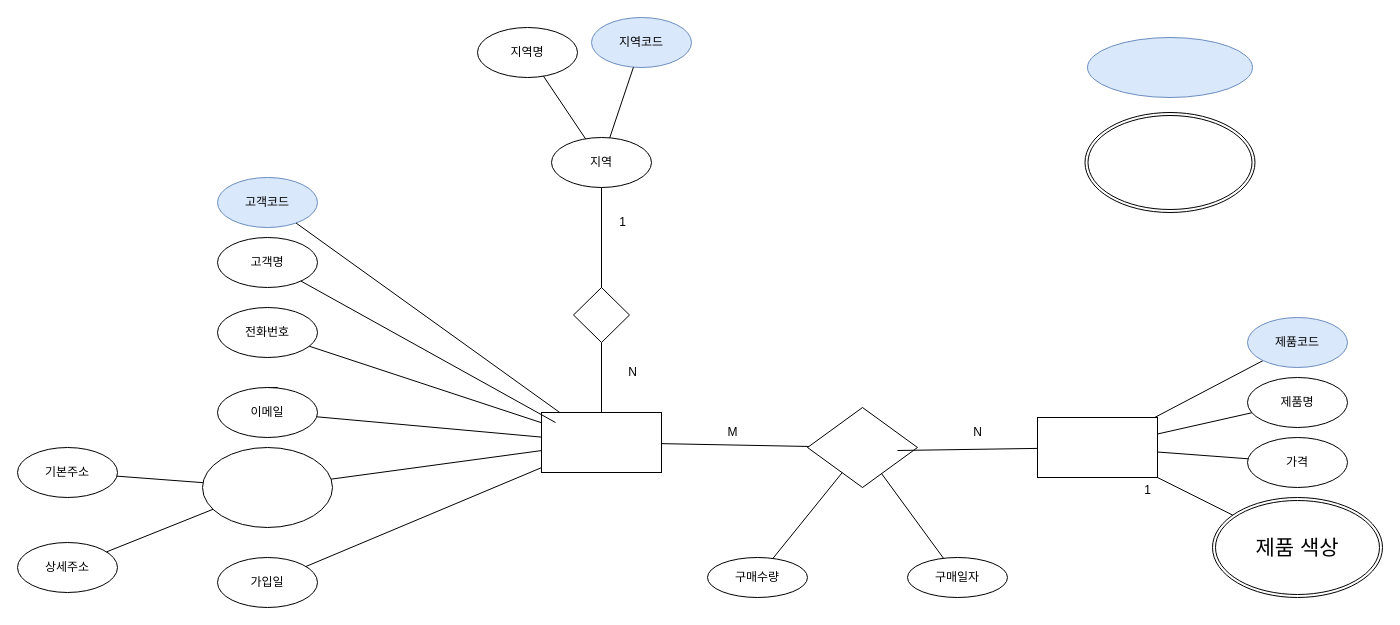
Image size: 1400x625. Some labels were removed from this diagram. The shapes that lost their labels are listed below. From the top down, each one's centre as x and y in pixels, then its label:
point 1169,67: PK
point 1169,162: 멀티 (여러가지)
point 601,314: 관리
point 601,442: 고객
point 862,447: 구매
point 1097,447: 제품
point 267,487: 주소
